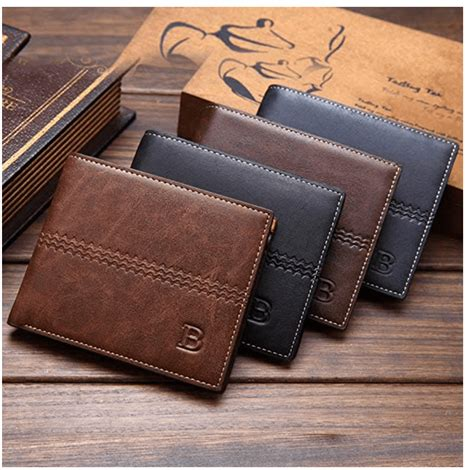cuero: (8, 85, 459, 395)
